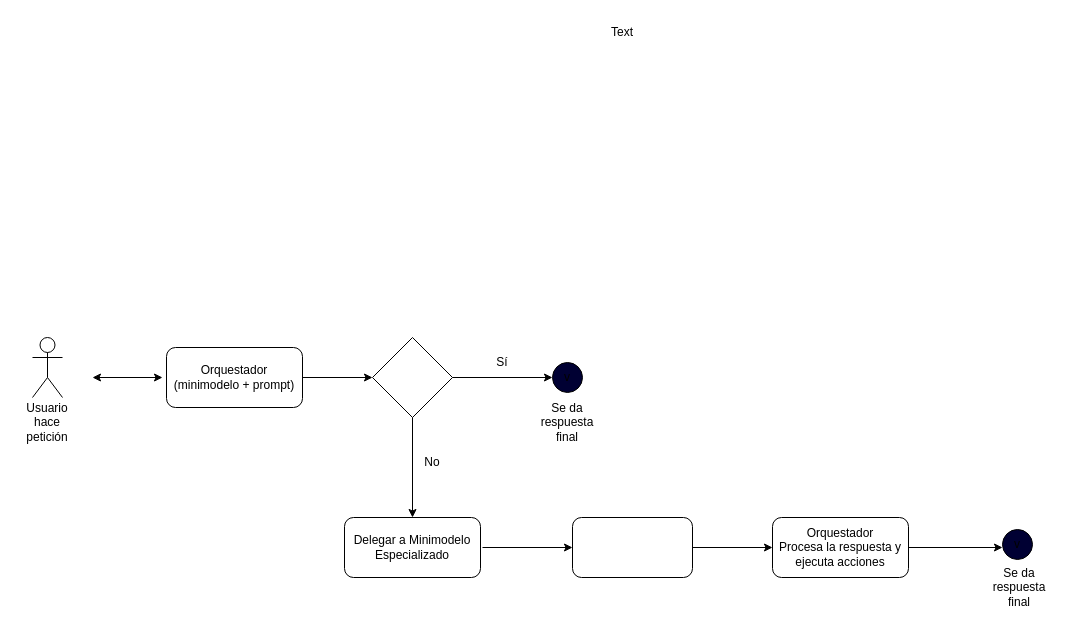
Some shapes in this 1066 by 626 pixel diagram are drawn without their labels. The box of each missing label's shape, as (x1, y1, x2, y2) in pixels:
Respuesta Minimodelo: (572, 516, 692, 578)
¿Puedo responder?: (372, 336, 452, 418)
